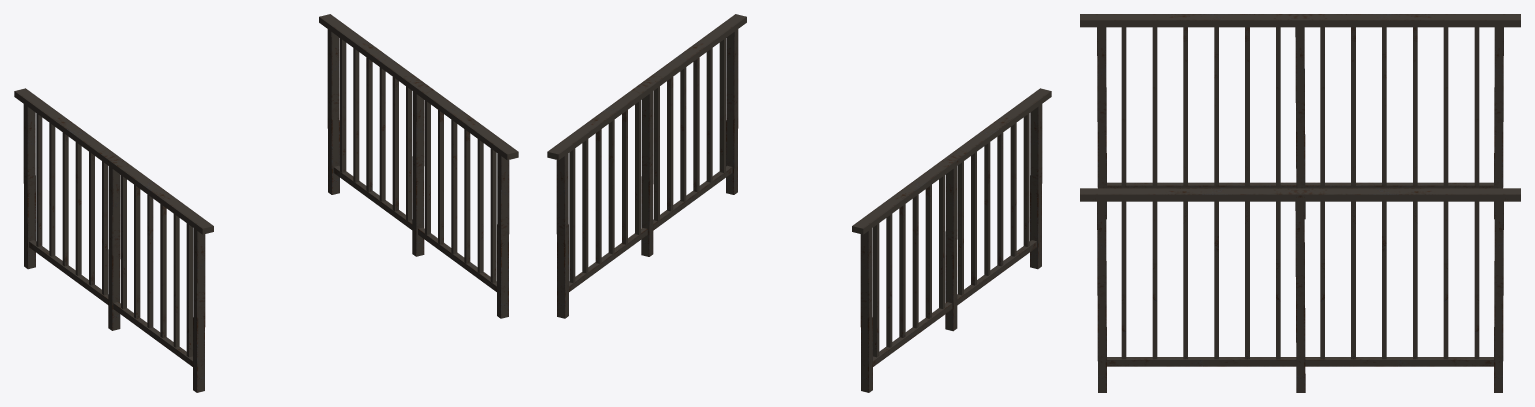
Rendered from Stairs_Rails_Metal_Straight_2.gltf.
3 views of the same model, side by side, from view 1: azimuth 30°, elevation 25°; view 2: azimuth 150°, elevation 25°; view 3: azimuth 270°, elevation 25° (orthographic). The views are drawn at different scales.
Parts seen in each view (by area): view 1: Stairs_Rails_Metal_Straight_2; view 2: Stairs_Rails_Metal_Straight_2; view 3: Stairs_Rails_Metal_Straight_2.
Part boxes in pixels (x1,y1,x2,y2): Stairs_Rails_Metal_Straight_2: (14,14,518,392); Stairs_Rails_Metal_Straight_2: (547,14,1051,392); Stairs_Rails_Metal_Straight_2: (1080,14,1520,392).
Size of the model in its own units: 1.94 by 0.9981 by 2.
1 material, 1 textured.
